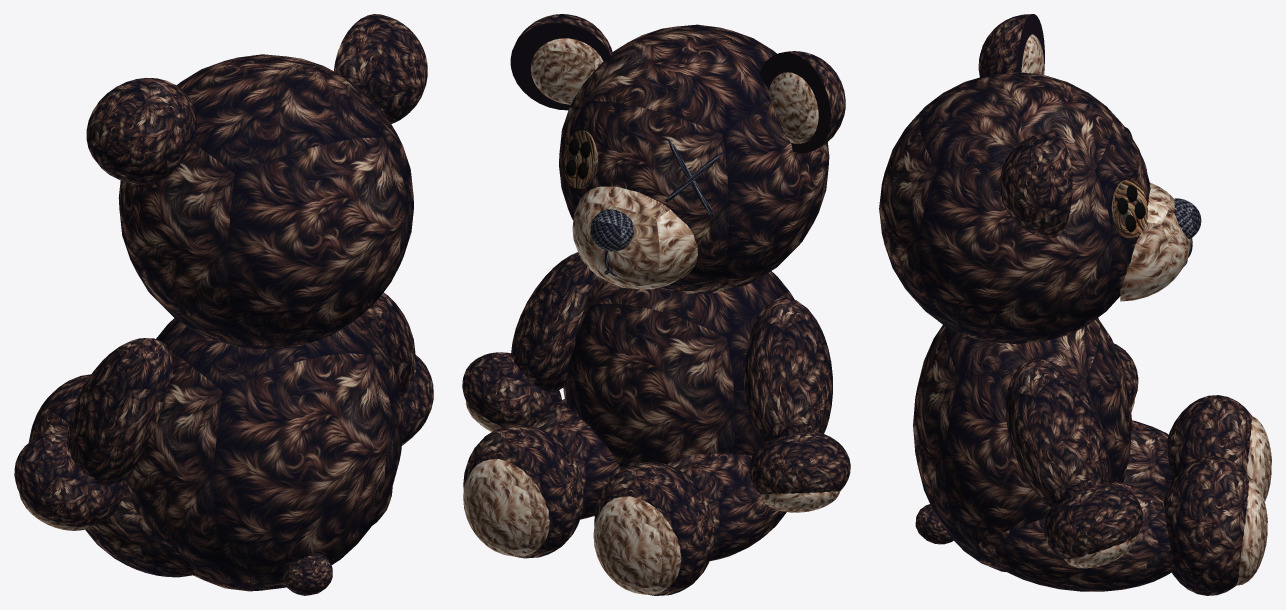
Rendered from TEDDY_BEAR_V2_EV1LSM1RK.glb.
3 views of the same model, side by side, from view 1: azimuth 30°, elevation 25°; view 2: azimuth 150°, elevation 25°; view 3: azimuth 270°, elevation 25° (orthographic). The views are drawn at different scales.
Visible parts, largest first — view 1: Spherabox_Clone_, Spherabox_Clone__3, Spherabox_Clone__9, Spherabox_half_fill_Clone__1, Spherabox_half_fill_Clone_, Spherabox_Clone__11, Spherabox_Clone__2, Spherabox_Clone__12, Spherabox_Clone__6, Spherabox_Clone__1, LOD1_7; view 2: Spherabox_Clone_, Spherabox_Clone__3, Spherabox_Clone__9, Spherabox_half_fill_Clone__5, Spherabox_Clone__12, Spherabox_Clone__5, Spherabox_Clone__10, Spherabox_Clone__6, Spherabox_Clone__7, Spherabox_Clone__2, Spherabox_Clone__11, Spherabox_Clone__1 (+9 smaller); view 3: Spherabox_Clone_, Spherabox_Clone__3, Spherabox_Clone__12, Spherabox_Clone__5, Spherabox_Clone__4, Spherabox_half_fill_Clone_, Spherabox_Clone__1, Spherabox_Clone__6, Spherabox_half_fill_Clone__5, Spherabox_Clone__2, Spherabox_half_fill_Clone__1, Spherabox_Clone__7 (+7 smaller).
Part boxes in pixels (x1=…): Spherabox_Clone_: x1=118, y1=54, x2=413, y2=349; Spherabox_Clone__3: x1=125, y1=315, x2=403, y2=591; Spherabox_Clone__9: x1=67, y1=338, x2=173, y2=485; Spherabox_half_fill_Clone__1: x1=86, y1=78, x2=196, y2=184; Spherabox_half_fill_Clone_: x1=334, y1=14, x2=427, y2=123; Spherabox_Clone__11: x1=14, y1=432, x2=124, y2=526; Spherabox_Clone__2: x1=85, y1=479, x2=193, y2=577; Spherabox_Clone__12: x1=361, y1=292, x2=415, y2=397; Spherabox_Clone__6: x1=28, y1=374, x2=90, y2=442; Spherabox_Clone__1: x1=401, y1=355, x2=433, y2=443; LOD1_7: x1=283, y1=554, x2=332, y2=595; Spherabox_Clone_: x1=559, y1=24, x2=829, y2=293; Spherabox_Clone__3: x1=563, y1=271, x2=794, y2=469; Spherabox_Clone__9: x1=744, y1=297, x2=832, y2=442; Spherabox_half_fill_Clone__5: x1=572, y1=186, x2=697, y2=289; Spherabox_Clone__12: x1=511, y1=252, x2=598, y2=392; Spherabox_Clone__5: x1=463, y1=424, x2=584, y2=558; Spherabox_Clone__10: x1=593, y1=496, x2=681, y2=594; Spherabox_Clone__6: x1=594, y1=462, x2=714, y2=595; Spherabox_Clone__7: x1=463, y1=459, x2=549, y2=556; Spherabox_Clone__2: x1=667, y1=453, x2=786, y2=561; Spherabox_Clone__11: x1=749, y1=431, x2=850, y2=494; Spherabox_Clone__1: x1=462, y1=352, x2=561, y2=426; Spherabox_Clone_: x1=879, y1=72, x2=1150, y2=343; Spherabox_Clone__3: x1=913, y1=318, x2=1132, y2=572; Spherabox_Clone__12: x1=1006, y1=359, x2=1109, y2=507; Spherabox_Clone__5: x1=1164, y1=456, x2=1249, y2=595; Spherabox_Clone__4: x1=978, y1=481, x2=1171, y2=591; Spherabox_half_fill_Clone_: x1=1000, y1=132, x2=1072, y2=237; Spherabox_Clone__1: x1=1044, y1=483, x2=1142, y2=559; Spherabox_Clone__6: x1=1167, y1=395, x2=1251, y2=482; Spherabox_half_fill_Clone__5: x1=1120, y1=182, x2=1190, y2=301; Spherabox_Clone__2: x1=1123, y1=420, x2=1171, y2=499; Spherabox_half_fill_Clone__1: x1=978, y1=14, x2=1044, y2=77; Spherabox_Clone__7: x1=1236, y1=478, x2=1267, y2=585.
Size of what is drawn, in the model's own units: 2.3 by 2.86 by 2.07.
18 materials, 14 textured.
